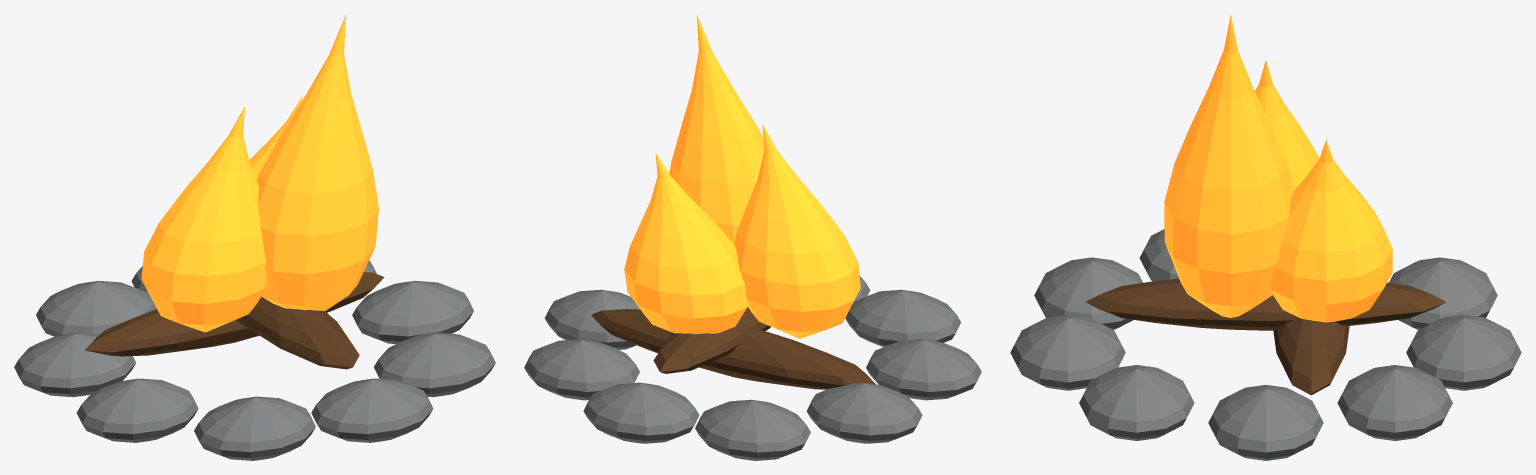
The model's file is Catalog-37.glb.
3 views of the same model, side by side, from view 1: azimuth 30°, elevation 25°; view 2: azimuth 150°, elevation 25°; view 3: azimuth 270°, elevation 25° (orthographic). The views are drawn at different scales.
Parts seen in each view (by area): view 1: Campfire 2, Campfire 0, Campfire 1; view 2: Campfire 2, Campfire 0, Campfire 1; view 3: Campfire 0, Campfire 2, Campfire 1.
Boxes of the visible parts, x1=… form: Campfire 2: x1=141, y1=15, x2=378, y2=332; Campfire 0: x1=14, y1=260, x2=495, y2=460; Campfire 1: x1=84, y1=272, x2=384, y2=369; Campfire 2: x1=624, y1=14, x2=860, y2=338; Campfire 0: x1=524, y1=276, x2=981, y2=460; Campfire 1: x1=591, y1=307, x2=875, y2=389; Campfire 0: x1=1010, y1=229, x2=1521, y2=460; Campfire 2: x1=1164, y1=14, x2=1392, y2=322; Campfire 1: x1=1085, y1=278, x2=1446, y2=395.
Bounding box in the file's own units: 2.11 × 1.75 × 2.04.
